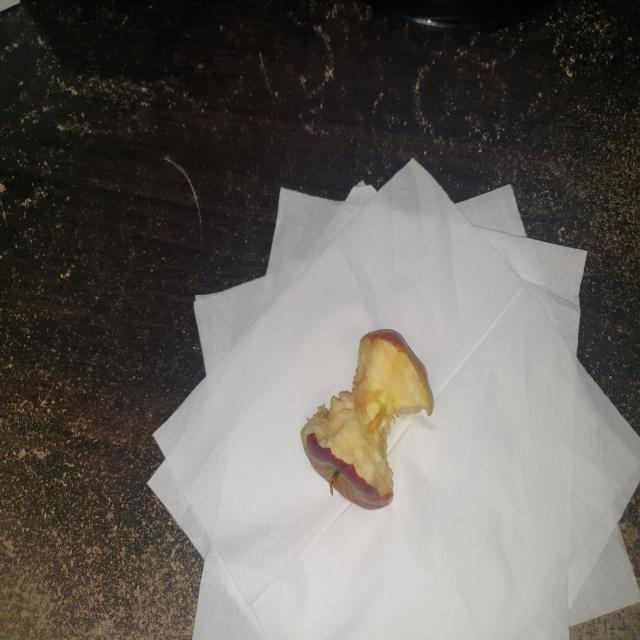apple: (299, 322, 446, 520)
